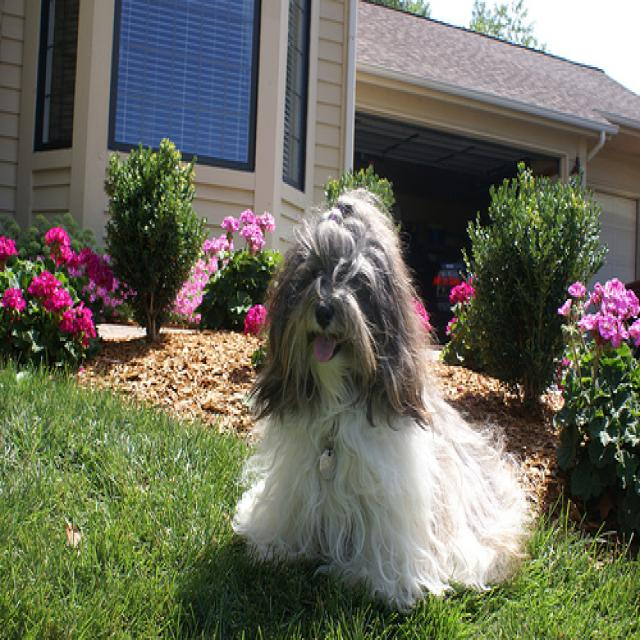dog-havanese: (224, 192, 532, 604)
